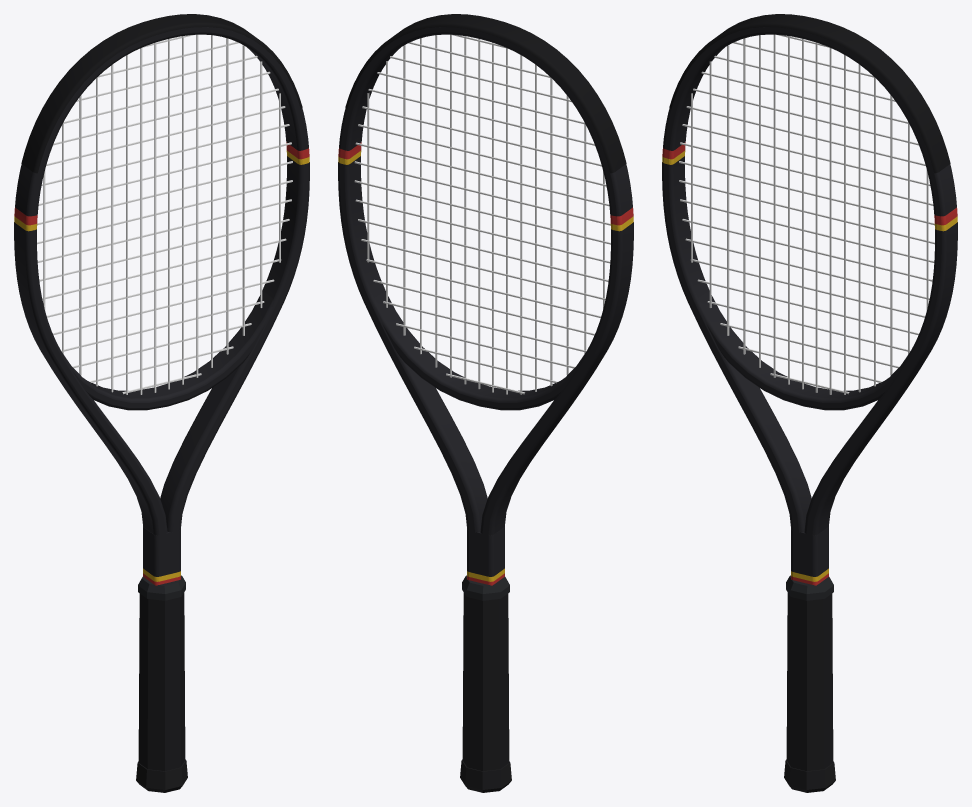
Rendered from wilson-pro-staff-team-classic.glb.
3 views of the same model, side by side, from view 1: azimuth 30°, elevation 25°; view 2: azimuth 150°, elevation 25°; view 3: azimuth 330°, elevation 25° (orthographic).
Parts seen in each view (by area): view 1: frame, strings_mains, strings_crosses, grip, bumper, butt_cap, collar; view 2: frame, strings_mains, strings_crosses, grip, bumper, butt_cap, collar; view 3: frame, strings_mains, strings_crosses, grip, bumper, butt_cap, collar.
Boxes of the visible parts, bbox=[...] form: frame: bbox=[14, 27, 309, 585]; strings_mains: bbox=[43, 34, 280, 394]; strings_crosses: bbox=[37, 35, 292, 394]; grip: bbox=[138, 592, 185, 771]; bumper: bbox=[21, 14, 302, 173]; butt_cap: bbox=[136, 759, 187, 792]; collar: bbox=[138, 575, 185, 600]; frame: bbox=[338, 27, 633, 585]; strings_mains: bbox=[367, 34, 604, 394]; strings_crosses: bbox=[354, 34, 610, 394]; grip: bbox=[462, 592, 509, 771]; bumper: bbox=[345, 14, 626, 173]; butt_cap: bbox=[460, 759, 511, 792]; collar: bbox=[462, 575, 509, 600]; frame: bbox=[662, 27, 957, 585]; strings_mains: bbox=[691, 34, 928, 394]; strings_crosses: bbox=[679, 35, 934, 394]; grip: bbox=[786, 592, 833, 771]; bumper: bbox=[669, 14, 950, 173]; butt_cap: bbox=[784, 759, 835, 792]; collar: bbox=[786, 575, 833, 600].
Size of the model in its own units: 0.2686 by 0.6861 by 0.0396.
